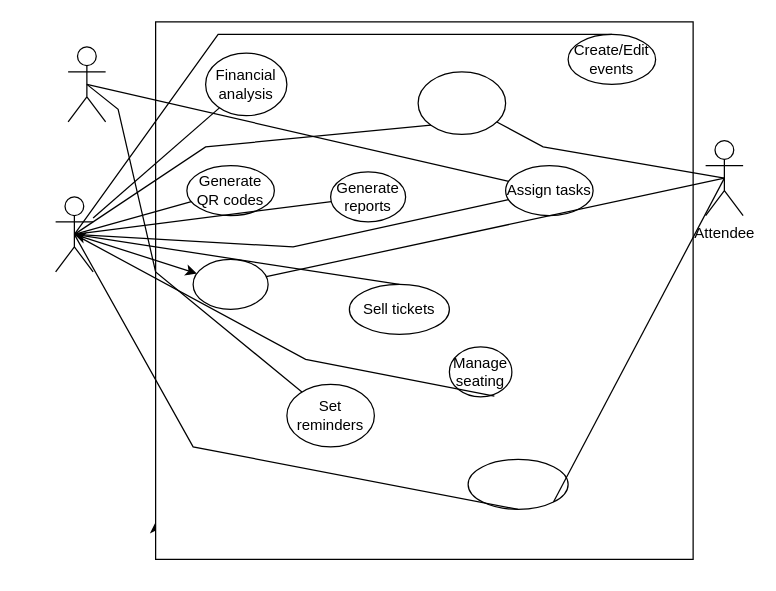
Some shapes in this 776 by 591 pixel diagram are drawn without their labels. The box of each missing label's shape, as (x1, y1, x2, y2) in pixels:
Create polls: (192, 258, 268, 309)
Event organiser: (54, 196, 93, 272)
Send notifications: (417, 71, 506, 134)
Vendor: (67, 46, 106, 122)
View itinerary: (467, 458, 568, 509)
